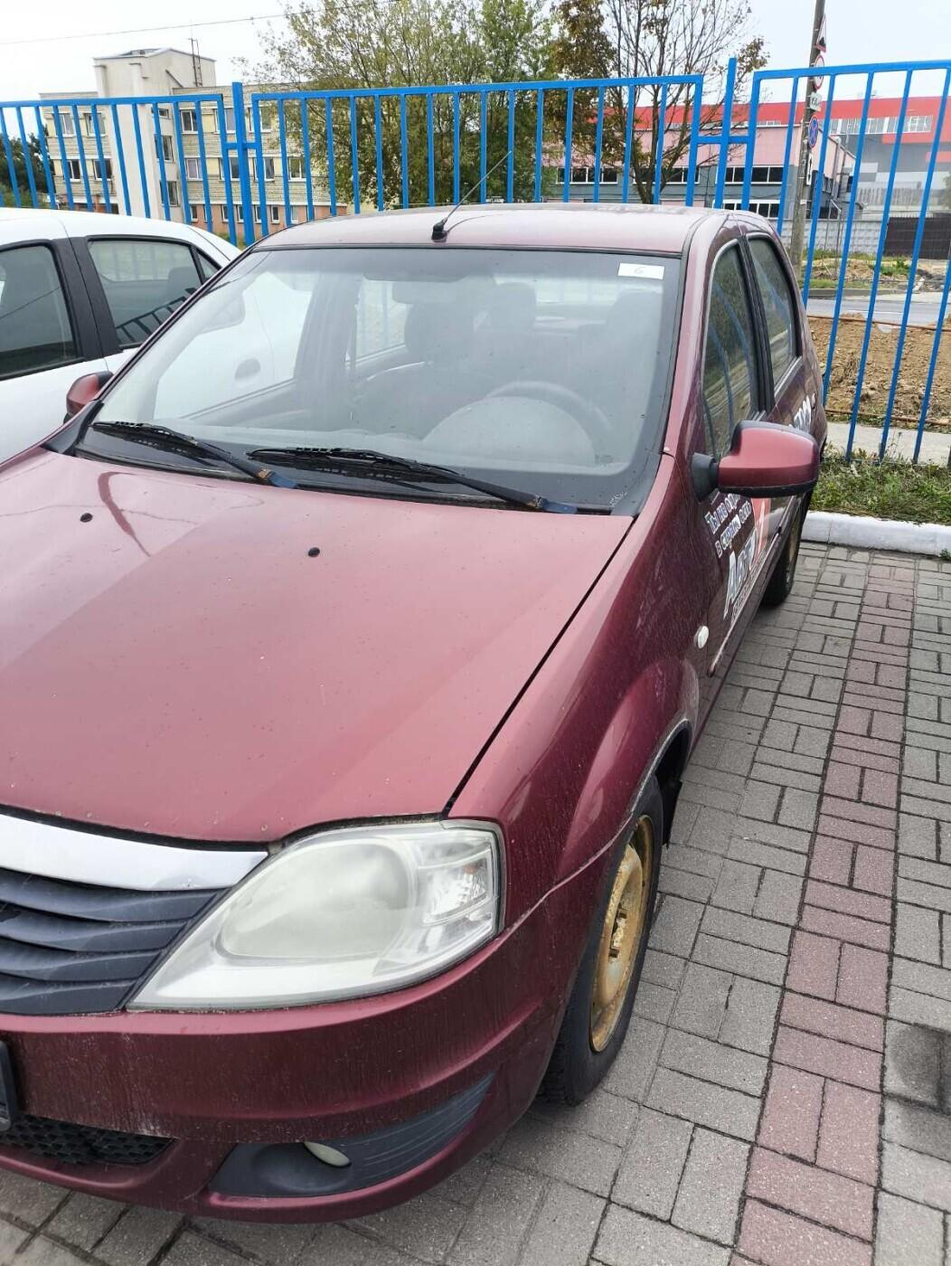Logan_2008-2015: (0, 201, 835, 1203)
